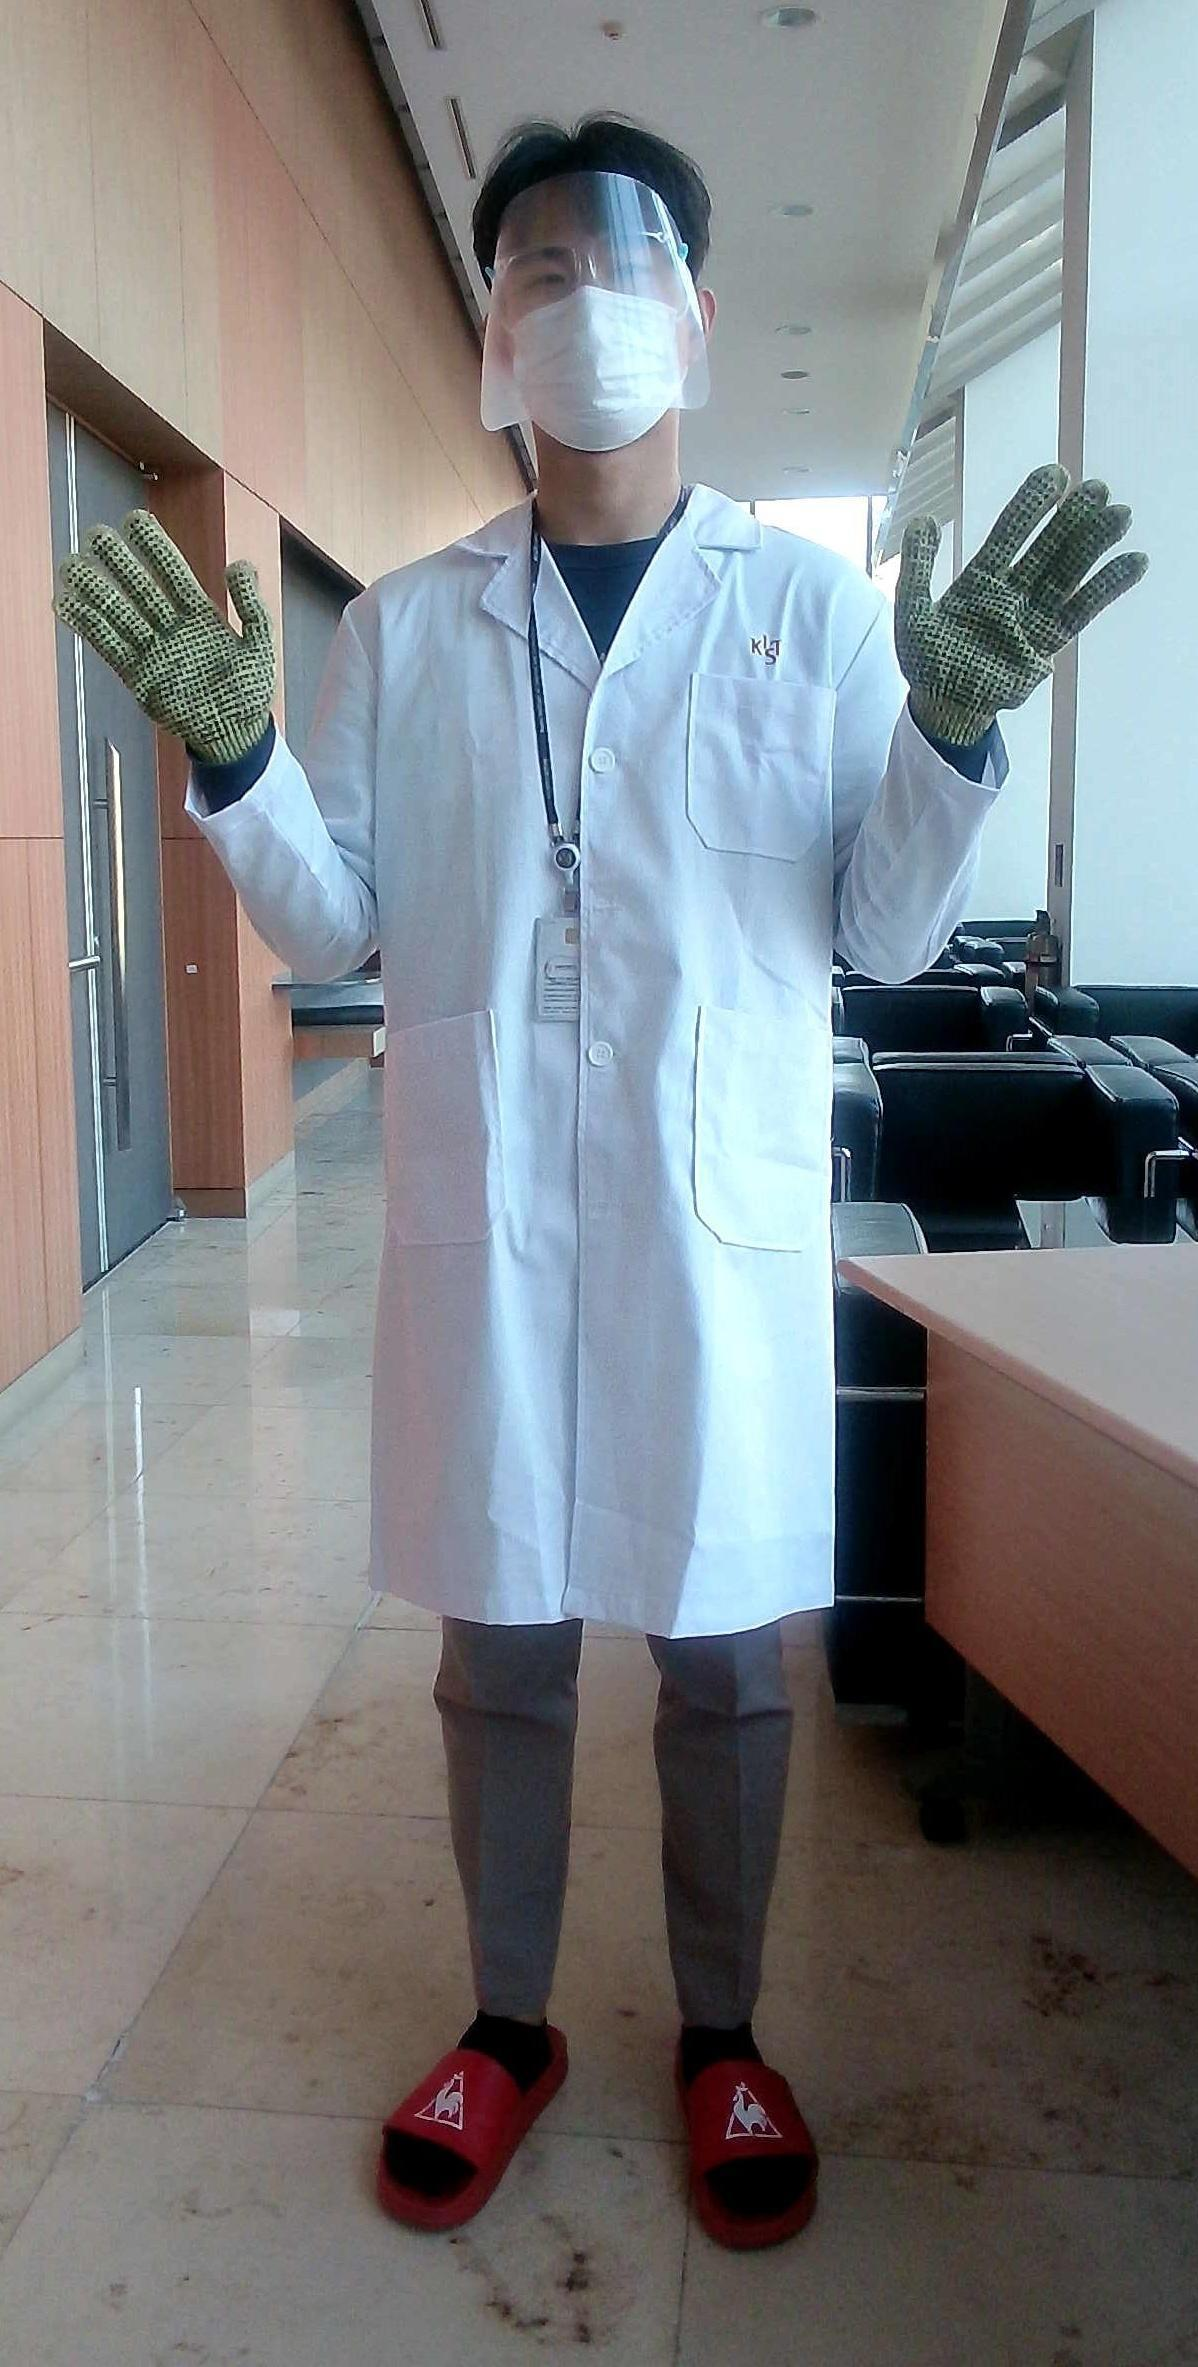lab_coat: (306, 567, 898, 1706)
